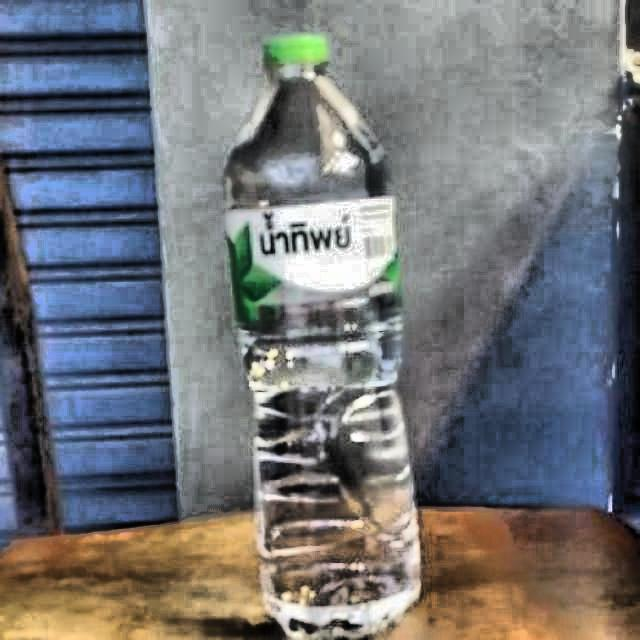Bottles: (209, 24, 435, 640)
